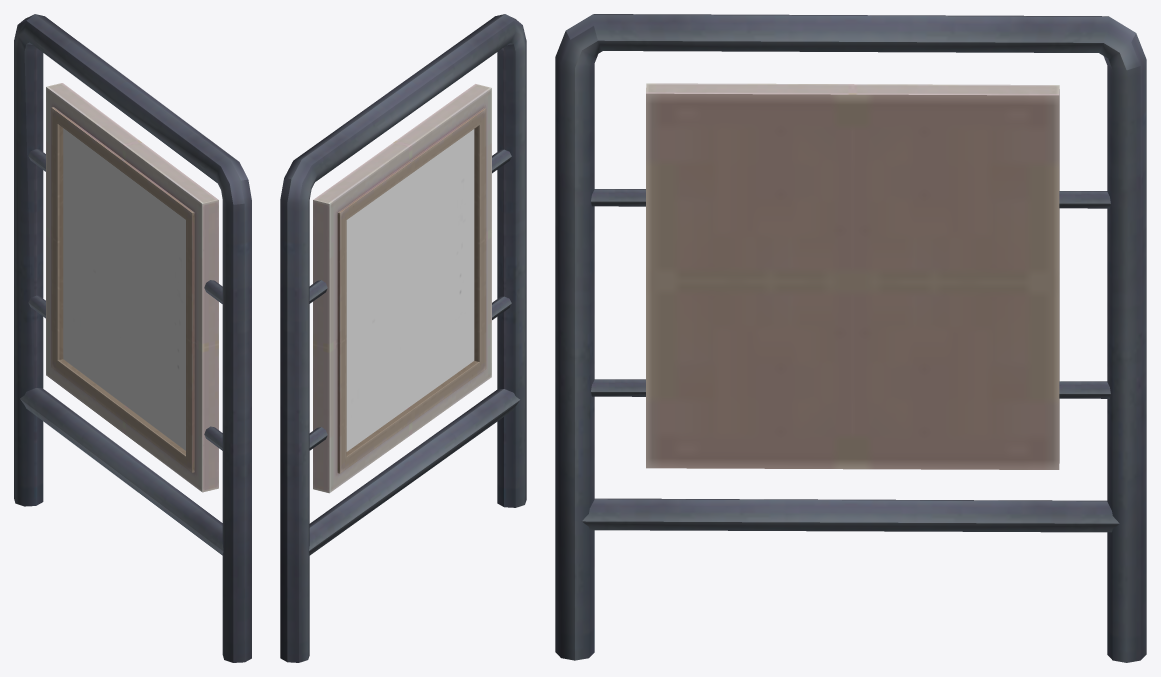
The model's file is DeskPortf.fbx.
The picture shows the model from 3 angles, left to right: view 1: azimuth 30°, elevation 25°; view 2: azimuth 150°, elevation 25°; view 3: azimuth 270°, elevation 25°; orthographic projection. The views are drawn at different scales.
Parts seen in each view (by area): view 1: scene_dance_stage_16_map01; view 2: scene_dance_stage_16_map01; view 3: scene_dance_stage_16_map01.
Boxes of the visible parts, x1,y1,x2,y2 form: scene_dance_stage_16_map01: (14,14,251,662); scene_dance_stage_16_map01: (280,14,526,662); scene_dance_stage_16_map01: (555,14,1146,662).
Bounding box in the file's own units: 0.137 × 2.15 × 1.8.
1 material, 1 textured.
